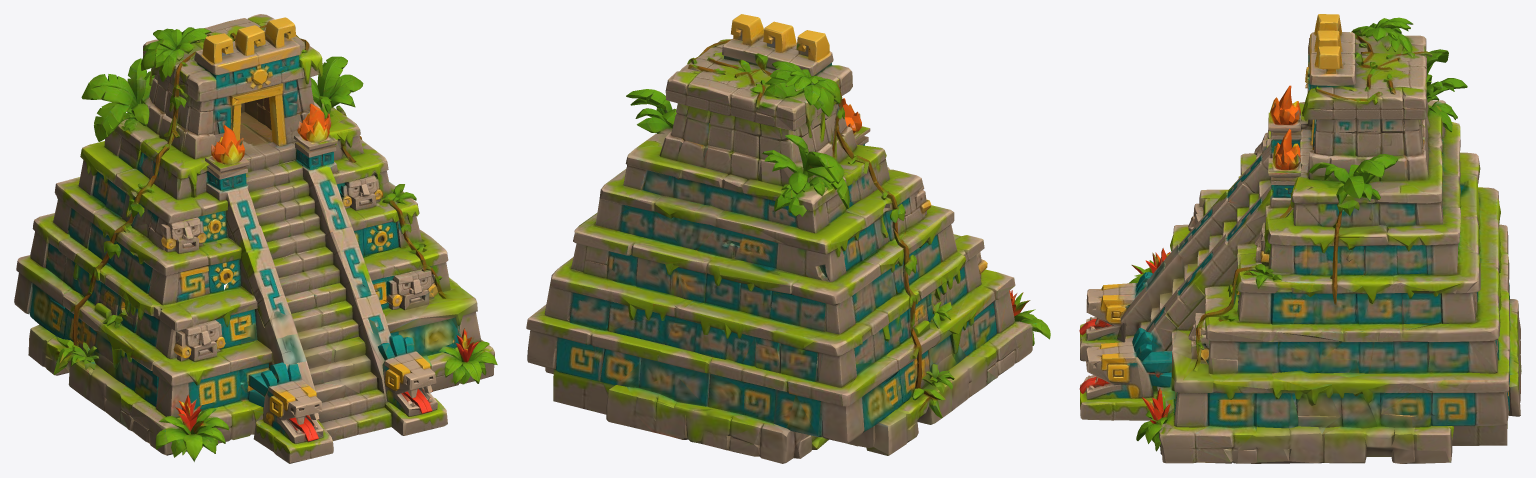
File: temple.glb
3 views of the same model, side by side, from view 1: azimuth 30°, elevation 25°; view 2: azimuth 150°, elevation 25°; view 3: azimuth 270°, elevation 25° (orthographic). The views are drawn at different scales.
Parts seen in each view (by area): view 1: temple; view 2: temple; view 3: temple.
Part boxes in pixels (left/top/right/bottom): temple: left=14, top=14, right=497, bottom=463; temple: left=526, top=14, right=1050, bottom=463; temple: left=1079, top=14, right=1521, bottom=463.
Size of the model in its own units: 32.81 by 30 by 34.76.
Materials: 1 (1 with a texture image).
